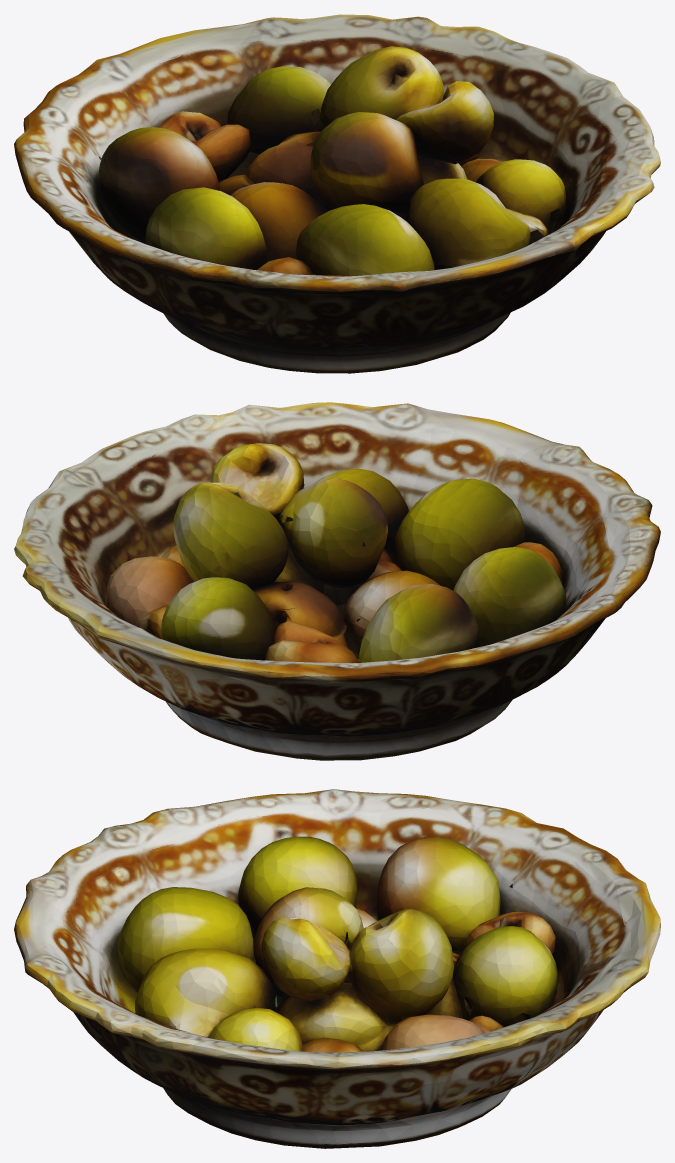
File: ceramic-olive-dish-vintage.jpeg.glb
The picture shows the model from 3 angles, top to bottom: view 1: azimuth 30°, elevation 25°; view 2: azimuth 150°, elevation 25°; view 3: azimuth 270°, elevation 25°; orthographic projection.
Parts seen in each view (by area): view 1: world; view 2: world; view 3: world.
Part boxes in pixels (<box>): world: <box>14,14,660,373</box>; world: <box>14,402,660,760</box>; world: <box>14,789,660,1148</box>.
Size of the model in its own units: 1 by 0.3553 by 0.9985.
Materials: 1 (1 with a texture image).
